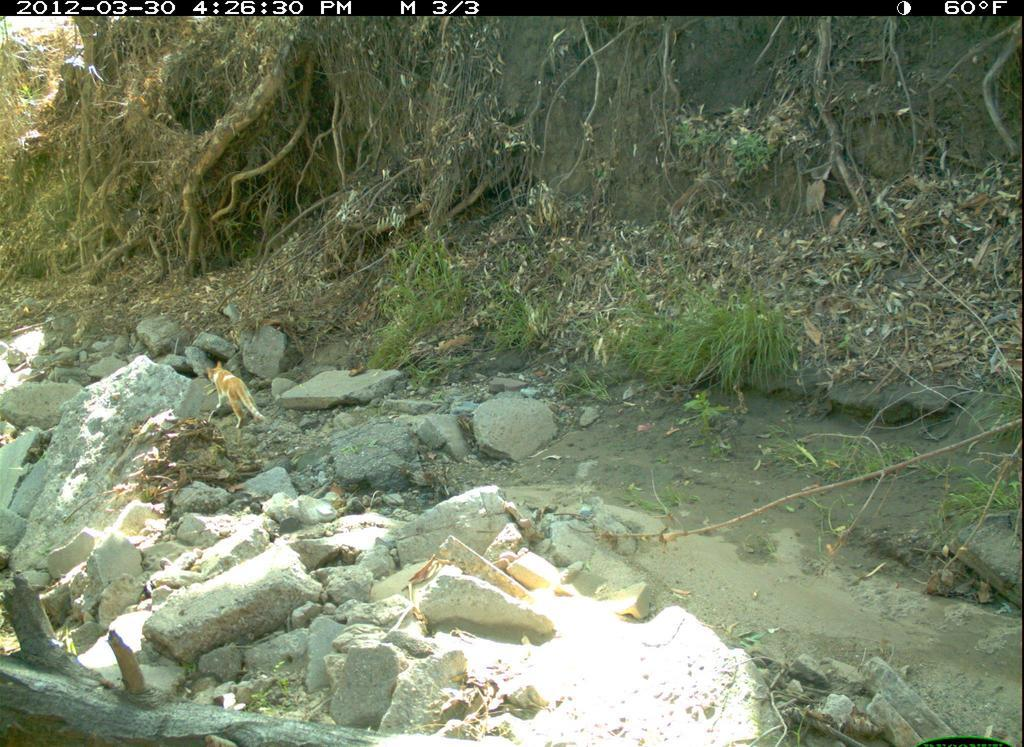cat: (205, 361, 266, 430)
